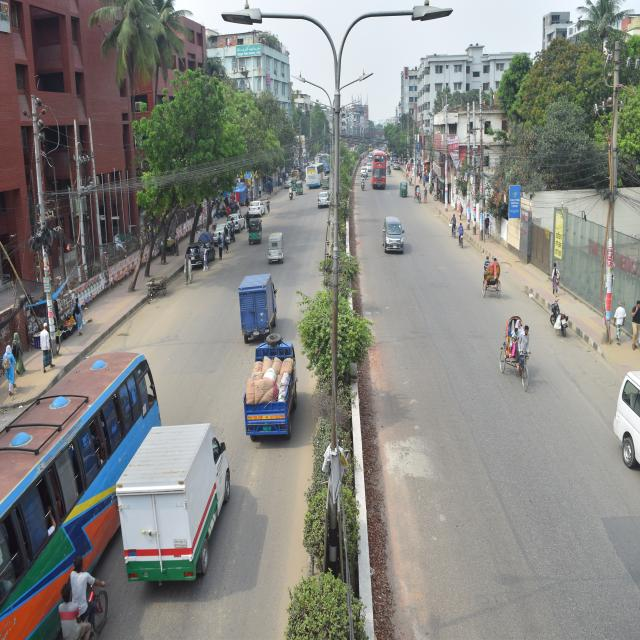bus: (300, 163, 325, 191)
car: (186, 240, 219, 272), (225, 208, 248, 232), (245, 198, 268, 218), (212, 221, 232, 243), (319, 187, 332, 210)
microbus: (609, 350, 640, 488), (377, 212, 412, 266)
motorbike: (544, 295, 573, 342), (284, 184, 297, 204)
pickup-van: (114, 415, 242, 581), (88, 338, 166, 584), (237, 335, 306, 443), (230, 268, 282, 342)
